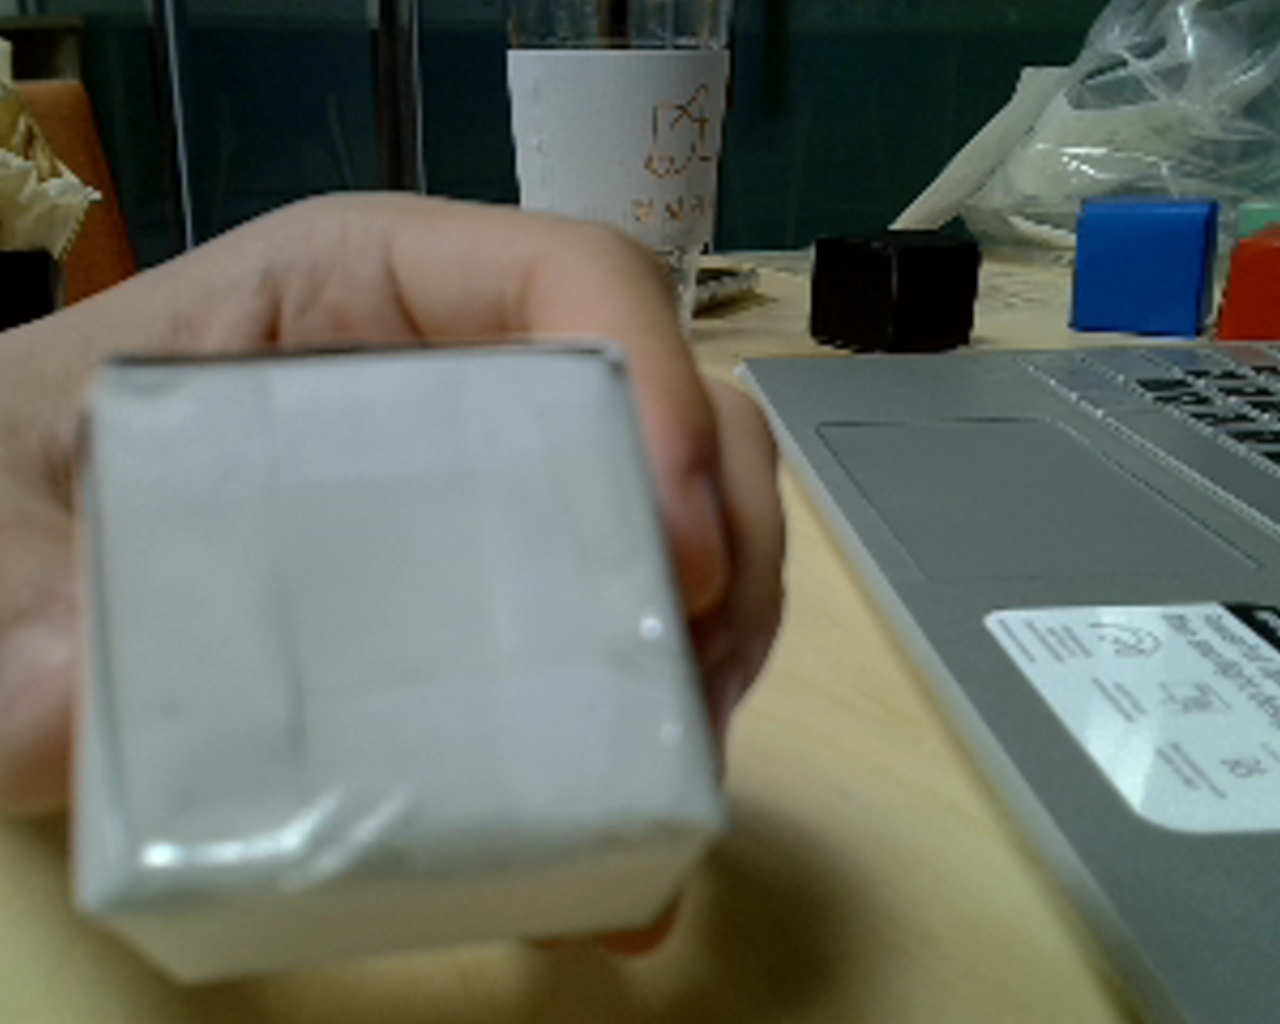whitebox: (48, 331, 821, 985)
